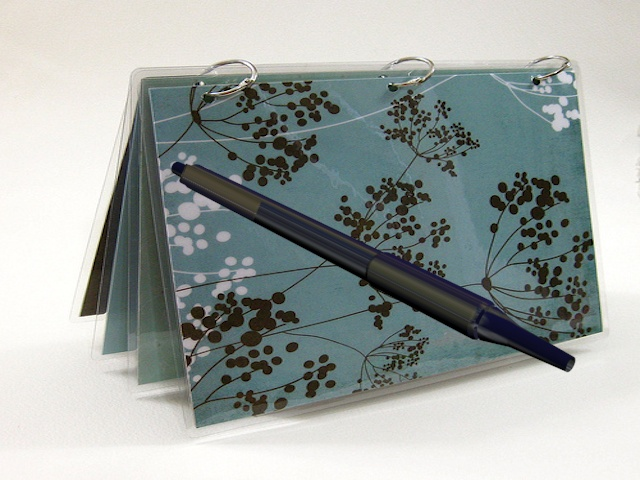pen: (161, 160, 576, 384)
